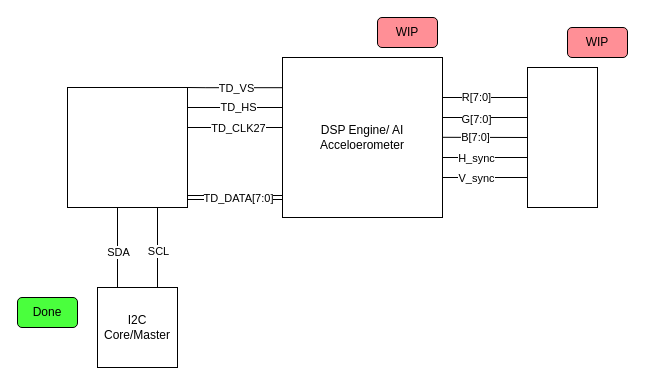
The diagram is 645 pixels wide and 385 high, and some of its shapes have lost their labels. The shapes that lost their labels are listed below. From the top down, each one's box as (x1, y1, x2, y2) in pixels, then its label:
(66, 86, 188, 208): RCA Camera
(526, 66, 598, 208): VGA Decoder
